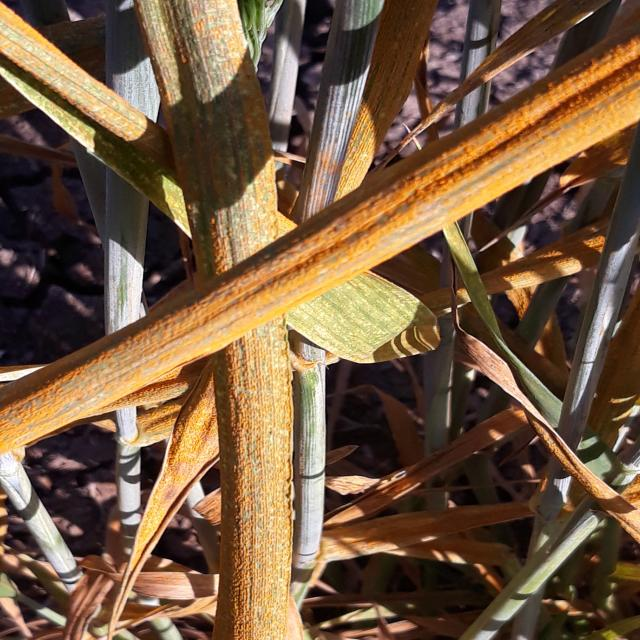yellow_rust: (0, 0, 640, 459), (133, 0, 324, 640), (326, 464, 636, 623), (33, 456, 225, 640)
